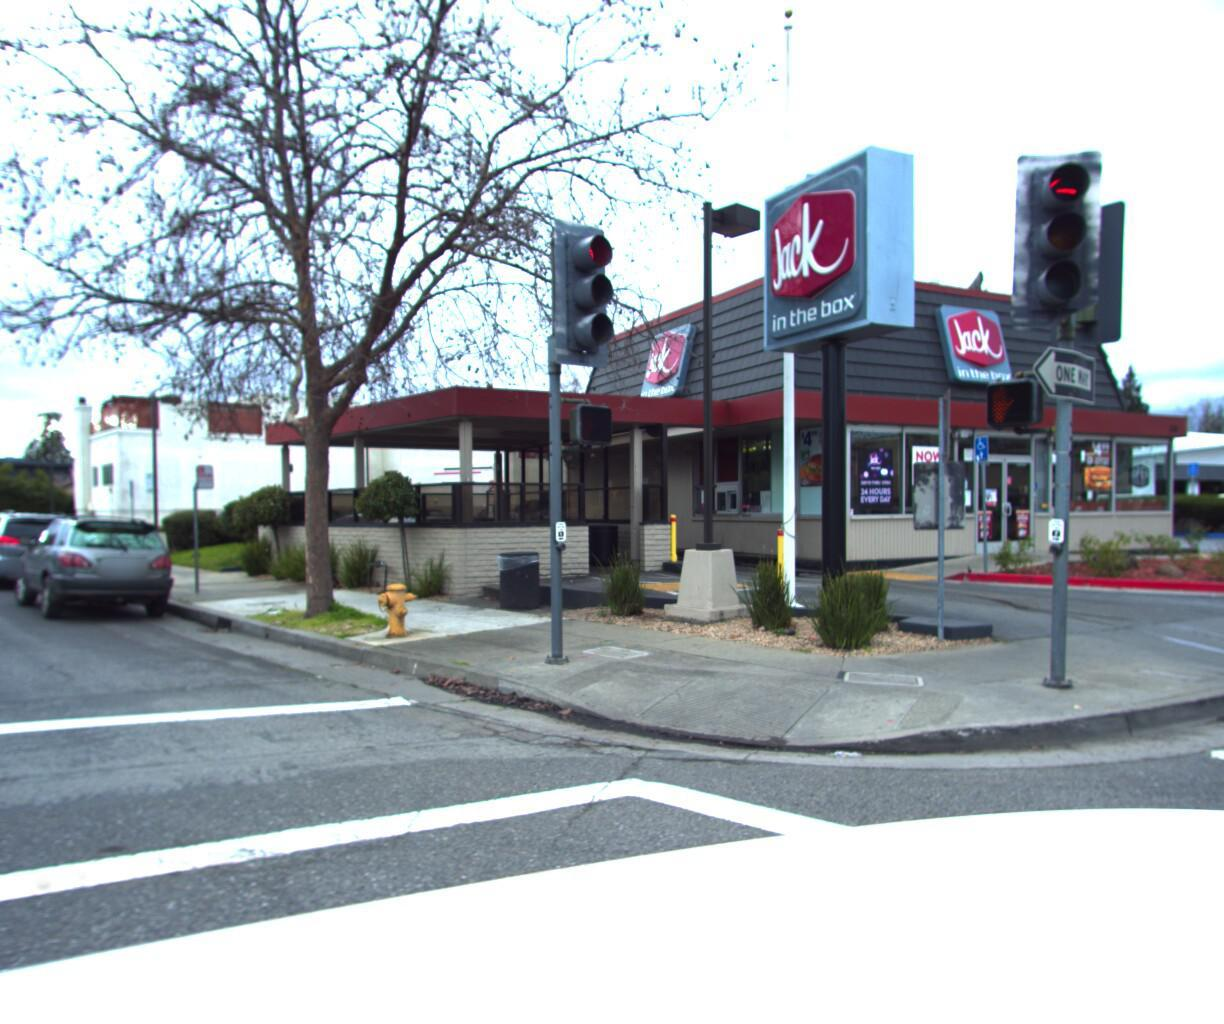car: (7, 503, 197, 626), (0, 501, 103, 588), (0, 506, 37, 568), (1146, 467, 1224, 493)
